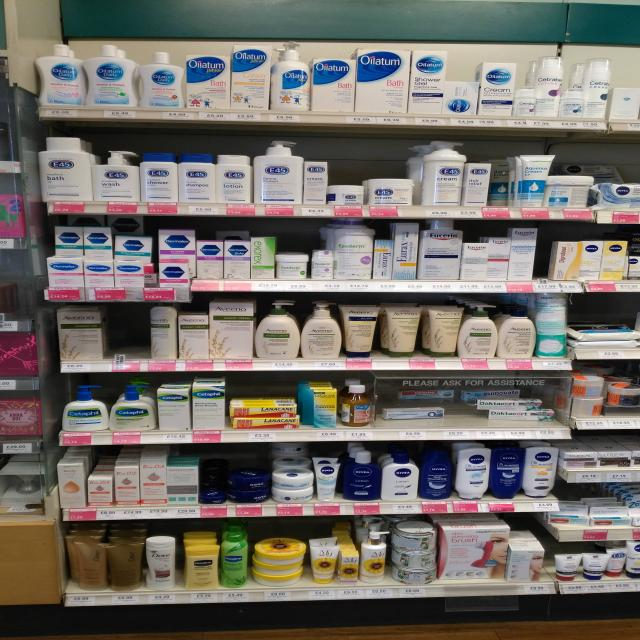unorganised: (464, 387, 558, 423), (147, 304, 178, 359), (382, 397, 447, 422), (574, 377, 605, 419), (113, 233, 153, 262), (489, 157, 510, 208), (52, 227, 85, 258), (551, 508, 589, 531)
